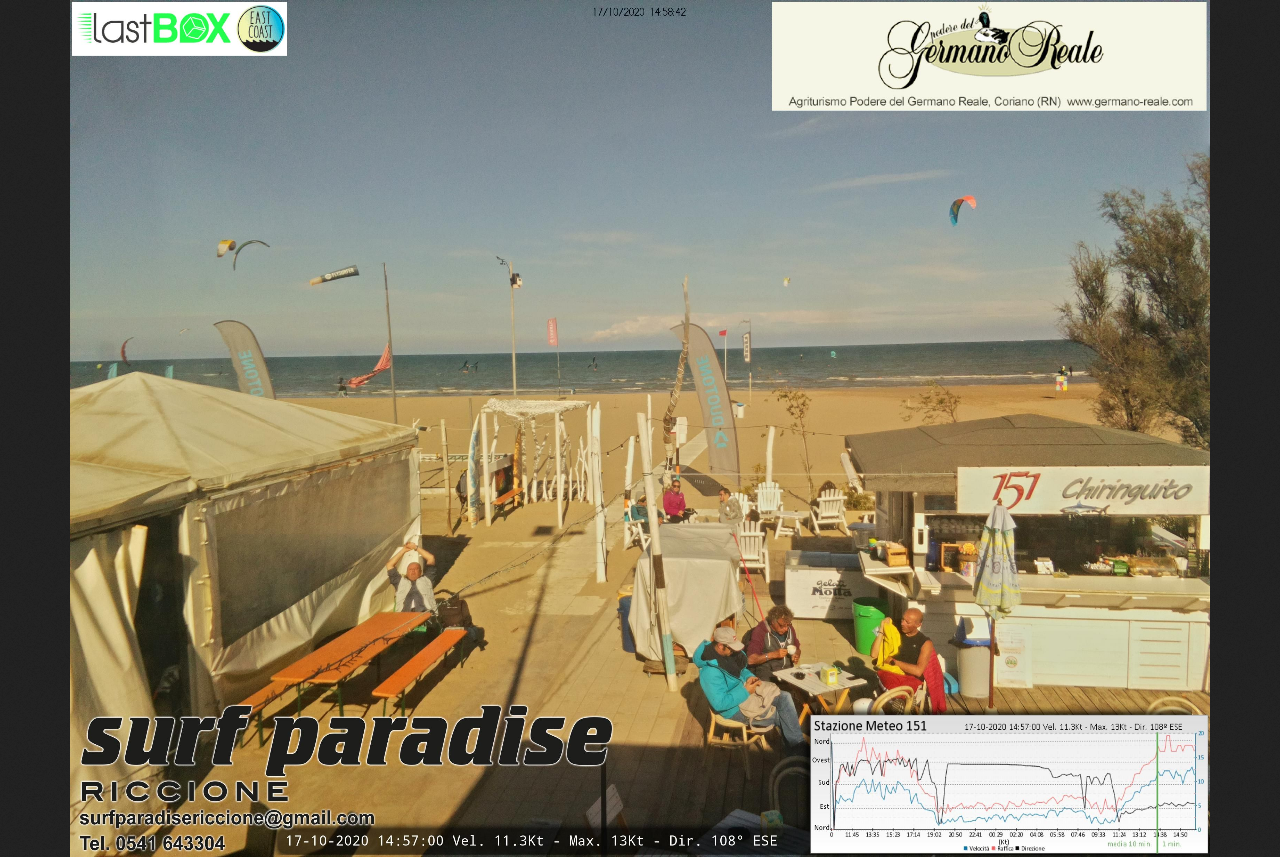maybe: (348, 344, 392, 387)
yes: (546, 312, 559, 348)
